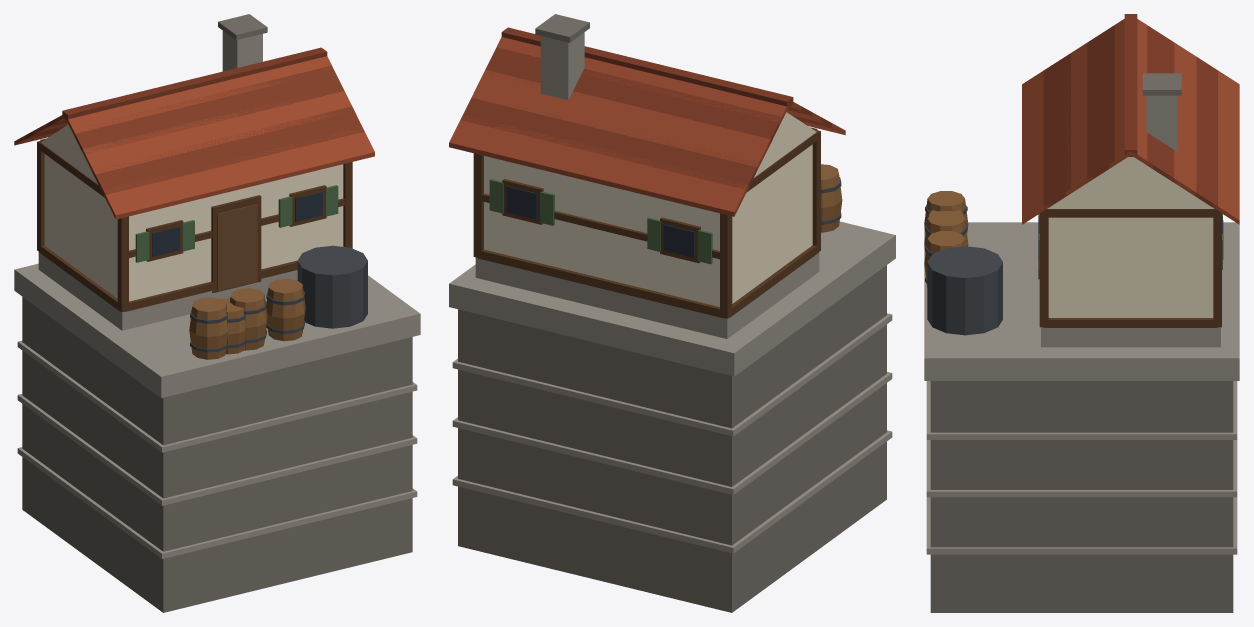
The model's file is brewery.glb.
3 renders of one model, left to right at view 1: azimuth 30°, elevation 25°; view 2: azimuth 150°, elevation 25°; view 3: azimuth 270°, elevation 25°, orthographic. The views are drawn at different scales.
Parts seen in each view (by area): view 1: brewery; view 2: brewery; view 3: brewery.
Boxes of the visible parts, <box> form: brewery: <box>14,14,420,612</box>; brewery: <box>449,14,895,612</box>; brewery: <box>924,14,1239,612</box>.
Bounding box in the file's own units: 5.1 × 8.72 × 5.
